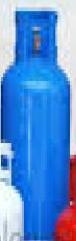cylinder: (0, 1, 76, 241)
